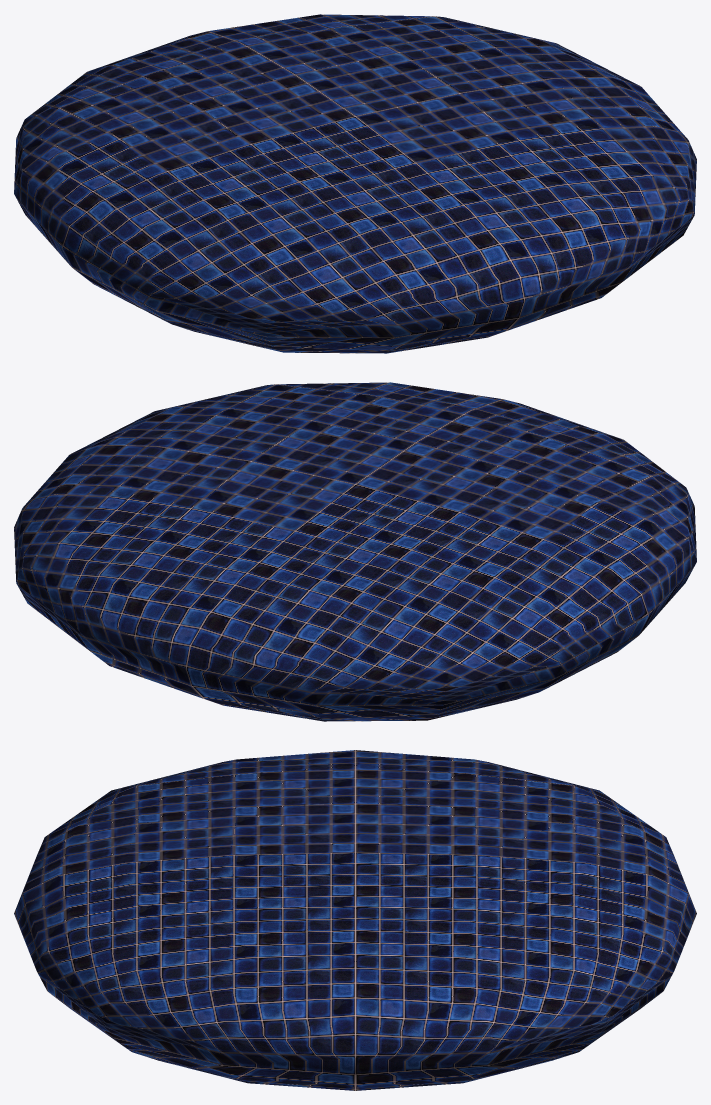
Rendered from jumpme.obj.
3 renders of one model, top to bottom at view 1: azimuth 30°, elevation 25°; view 2: azimuth 150°, elevation 25°; view 3: azimuth 270°, elevation 25°, orthographic.
Visible parts, largest first — view 1: Cube_Cube.008_Material_glassblock05.jpg; view 2: Cube_Cube.008_Material_glassblock05.jpg; view 3: Cube_Cube.008_Material_glassblock05.jpg.
Boxes of the visible parts, <box> form: Cube_Cube.008_Material_glassblock05.jpg: <box>14,14,696,353</box>; Cube_Cube.008_Material_glassblock05.jpg: <box>14,382,696,721</box>; Cube_Cube.008_Material_glassblock05.jpg: <box>14,750,696,1090</box>.
Size of the model in its own units: 28.13 by 7.51 by 28.12.
